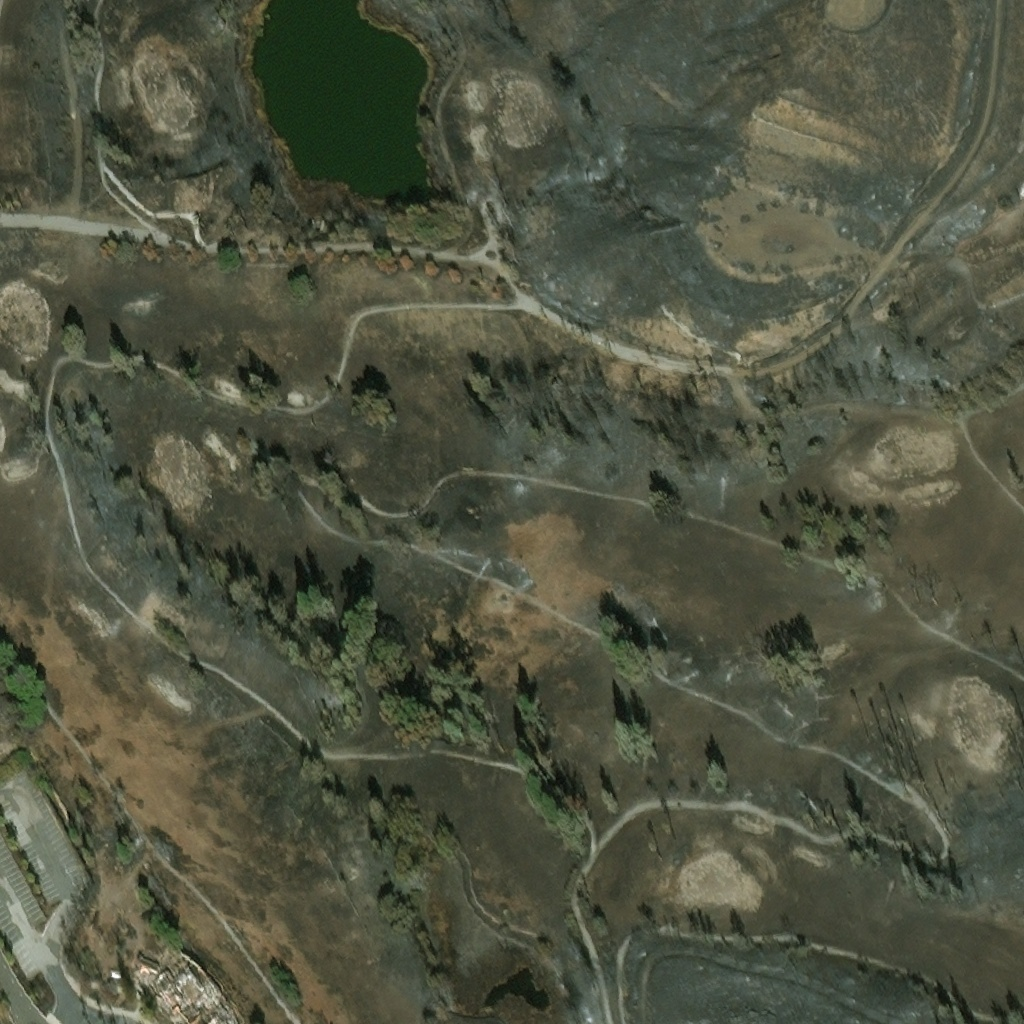3 destroyed: (135, 958, 239, 1023)
